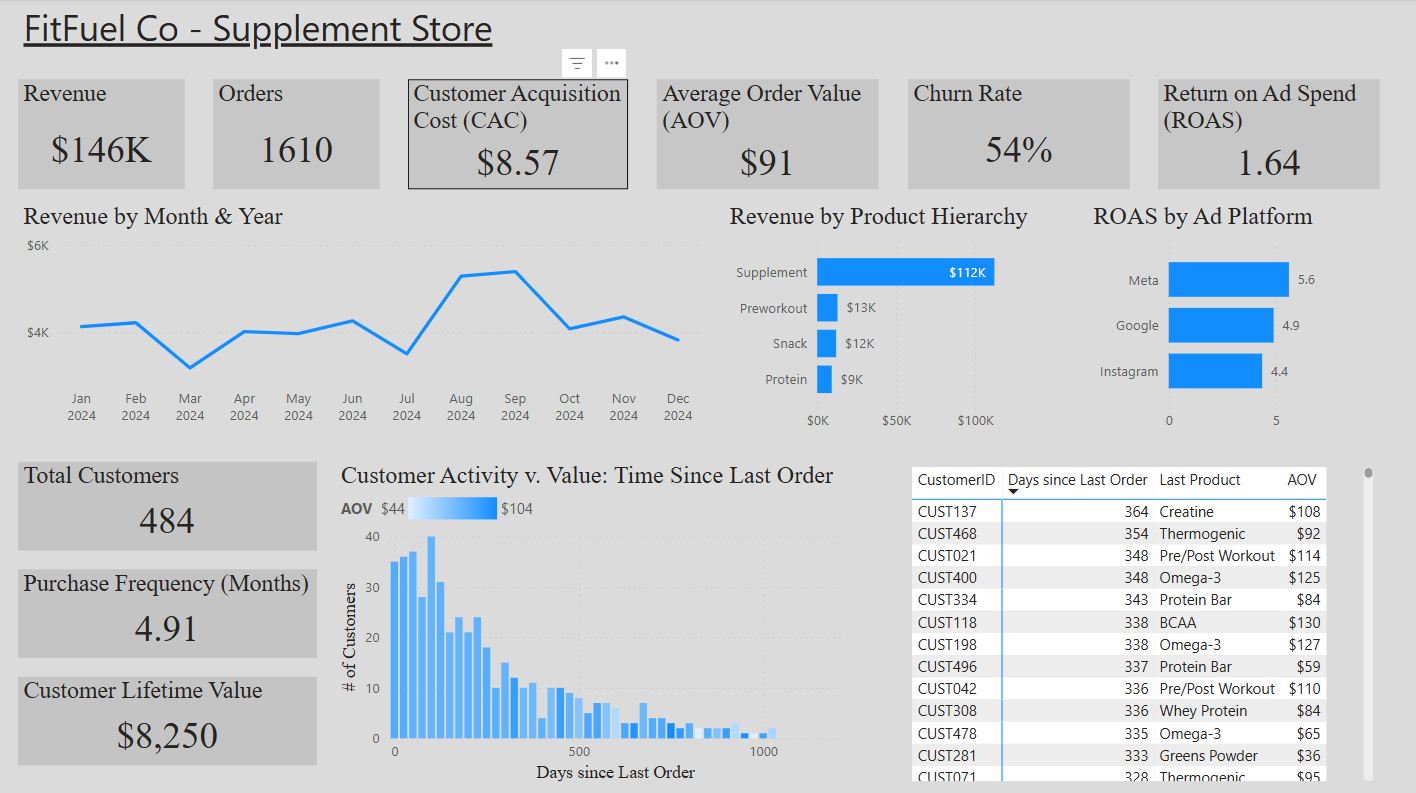

The dashboard page shown, as its layout file describes it:
{"tool":"powerbi","page":{"name":"Overview","canvas":[1280,720],"ordinal":0},"visuals":[{"type":"card","title":"Orders","fields":{"Values":["Count(orders - Fact.OrderID)"]},"box":[193.6,72.7,150.3,99.5],"z":0},{"type":"textbox","box":[17.6,0,546.2,73.6],"z":1000},{"type":"card","title":"Revenue","fields":{"Values":["_Measures.Product Revenue"]},"box":[17.6,72.7,150.3,99.5],"z":2000},{"type":"lineChart","title":"Revenue by Month & Year","fields":{"Y":["_Measures.Product Revenue"],"Category":["Date - Dimension.Month & Year"]},"box":[17.6,184.5,622.9,207.3],"z":3000},{"type":"card","title":"Customer Acquisition Cost (CAC)","fields":{"Values":["_Measures.CAC"]},"box":[369.6,72.7,199,99.5],"z":4000},{"type":"card","title":"Average Order Value (AOV)","fields":{"Values":["_Measures.AOV"]},"box":[594.3,72.7,200,99.5],"z":5000},{"type":"card","title":"Customer Lifetime Value","fields":{"Values":["_Measures.LTV"]},"box":[17.6,611.5,269.5,80],"z":6000},{"type":"card","title":"Return on Ad Spend (ROAS)","fields":{"Values":["_Measures.ROAS"]},"box":[1045.8,72.7,200,99.5],"z":7000},{"type":"clusteredBarChart","title":"Revenue by Product Hierarchy","fields":{"Y":["_Measures.Product Revenue"],"Category":["products - Dimension.Category","products - Dimension.ProductName"]},"box":[655,184.5,300.6,214.5],"z":8000},{"type":"card","title":"Churn Rate ","fields":{"Values":["_Measures.Churn Rate"]},"box":[820,72.7,200,99.5],"z":9000},{"type":"clusteredColumnChart","title":"Customer Activity v. Value: Time Since Last Order","fields":{"Category":["customers - Dimension.Days Since Last Order (bins)"],"Y":["CountNonNull(customers - Dimension.CustomerID)"]},"box":[304.7,417.7,471.6,293.3],"z":10000},{"type":"card","title":"Total Customers","fields":{"Values":["_Measures.Customers"]},"box":[17.6,417.7,269.5,80],"z":11000},{"type":"card","title":"Purchase Frequency (Months)","fields":{"Values":["Avg(customers - Dimension.Avg Orders Per Month)"]},"box":[17.6,514.6,269.5,80],"z":12000},{"type":"clusteredBarChart","title":"ROAS by Ad Platform","fields":{"Y":["_Measures.ROAS"],"Category":["ads - Fact.Platform"]},"box":[982.5,184.5,263.3,214.5],"z":13000},{"type":"pivotTable","fields":{"Rows":["customers - Dimension.CustomerID"],"Values":["Avg(customers - Dimension.Days Since Last Order)","_Measures.Last Product","_Measures.AOV"]},"box":[819.8,417.7,426,293.3],"z":14000}]}

Visuals, with their boxes in screenshot pixels (x1, y1, x2, y2), scaled from the page's 1280x720 canvas onto the 1416x793 screenshot:
"Orders" card: bbox=(214, 80, 380, 190)
textbox: bbox=(19, 0, 624, 81)
"Revenue" card: bbox=(19, 80, 186, 190)
"Revenue by Month & Year" lineChart: bbox=(19, 203, 709, 432)
"Customer Acquisition Cost (CAC)" card: bbox=(409, 80, 629, 190)
"Average Order Value (AOV)" card: bbox=(657, 80, 879, 190)
"Customer Lifetime Value" card: bbox=(19, 673, 318, 762)
"Return on Ad Spend (ROAS)" card: bbox=(1157, 80, 1378, 190)
"Revenue by Product Hierarchy" clusteredBarChart: bbox=(725, 203, 1057, 439)
"Churn Rate " card: bbox=(907, 80, 1128, 190)
"Customer Activity v. Value: Time Since Last Order" clusteredColumnChart: bbox=(337, 460, 859, 783)
"Total Customers" card: bbox=(19, 460, 318, 548)
"Purchase Frequency (Months)" card: bbox=(19, 567, 318, 655)
"ROAS by Ad Platform" clusteredBarChart: bbox=(1087, 203, 1378, 439)
pivotTable - customers - Dimension.CustomerID x Avg(customers - Dimension.Days Since Last Order): bbox=(907, 460, 1378, 783)
